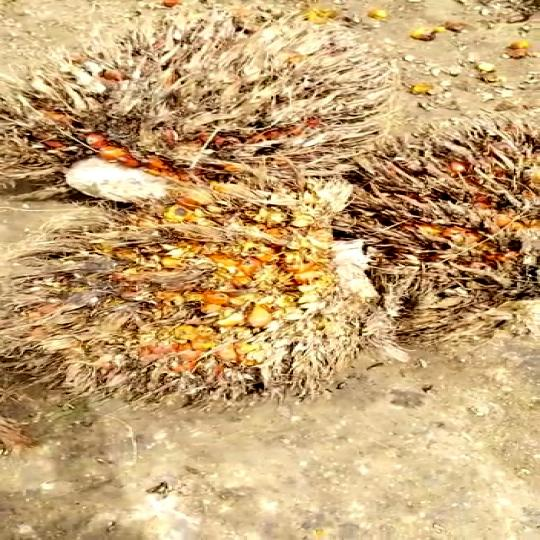terlalu masak: (0, 198, 406, 398), (0, 13, 372, 211)
